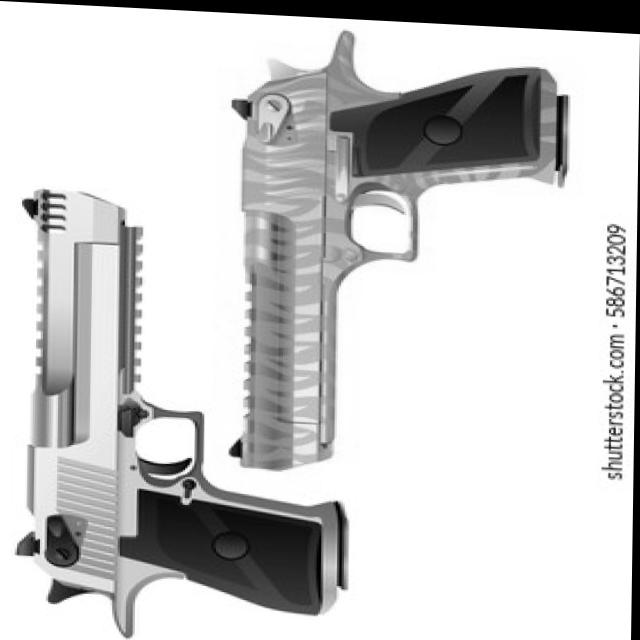handgun: (220, 16, 585, 488), (11, 174, 369, 636)
